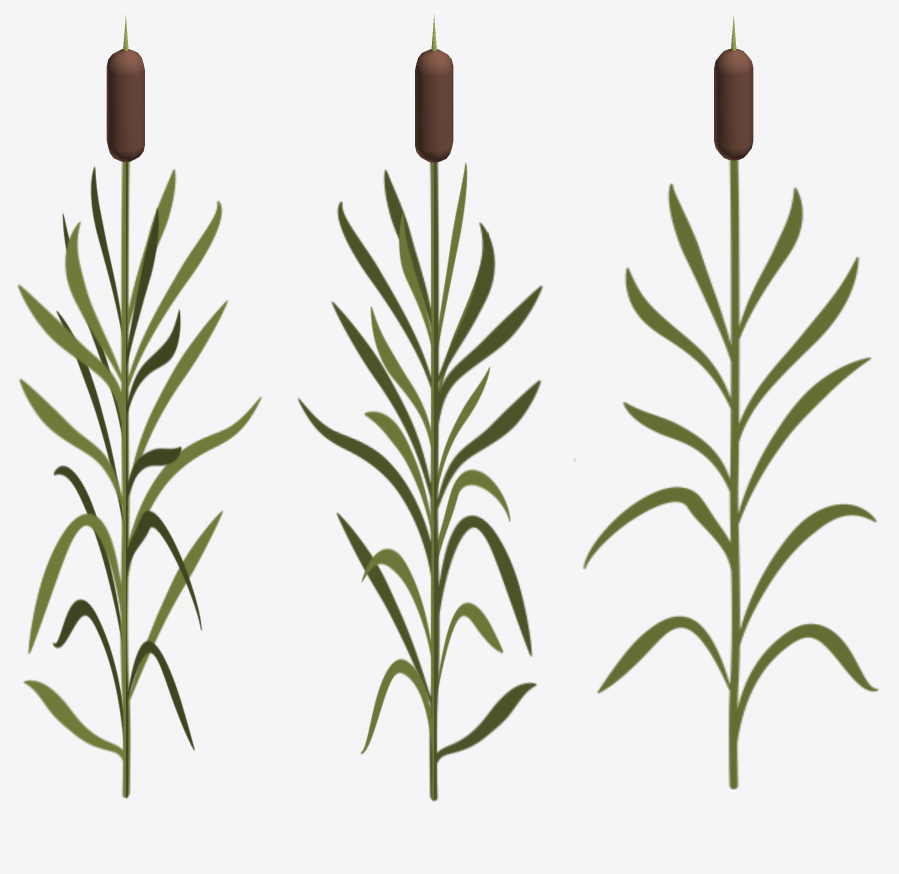
Rendered from CatTail_2.gltf.
3 views of the same model, side by side, from view 1: azimuth 30°, elevation 25°; view 2: azimuth 150°, elevation 25°; view 3: azimuth 270°, elevation 25° (orthographic).
Parts seen in each view (by area): view 1: Cat_Tail_2; view 2: Cat_Tail_2; view 3: Cat_Tail_2.
Part boxes in pixels (x1,y1,x2,y2): Cat_Tail_2: (17,15,261,798); Cat_Tail_2: (297,14,542,801); Cat_Tail_2: (574,15,878,789).
Size of the model in its own units: 0.5339 by 1.6 by 0.5778.
Materials: 1 (1 with a texture image).
